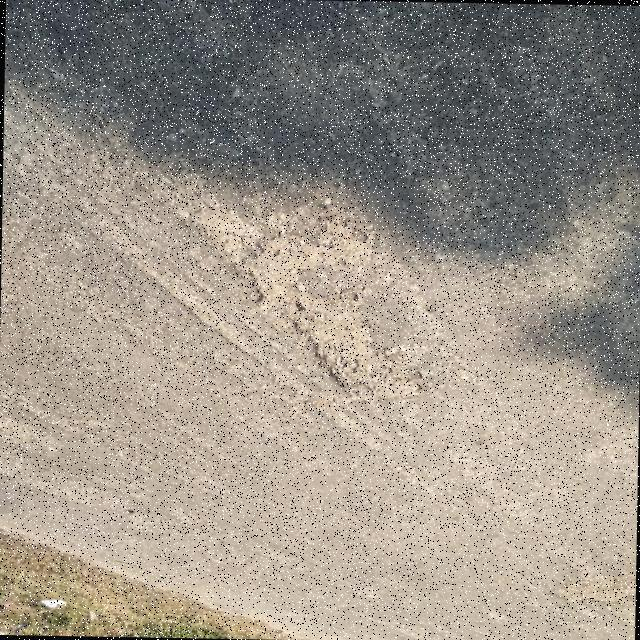Pothole: (246, 220, 431, 398)
